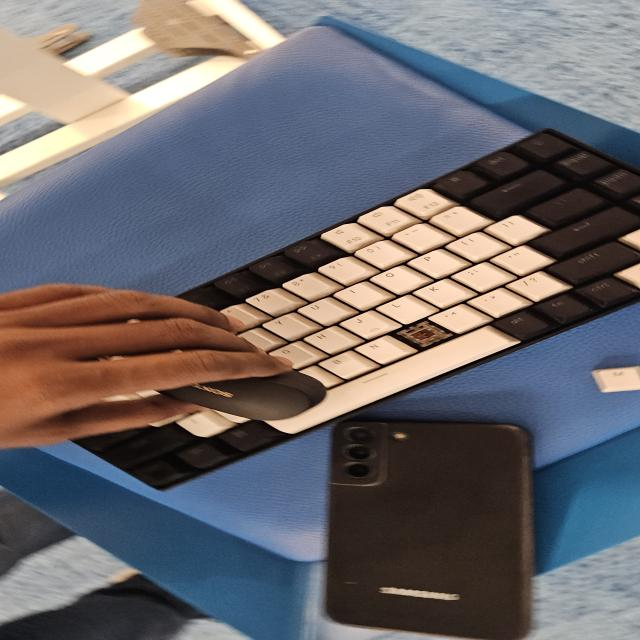C: (403, 327, 447, 346), (405, 326, 441, 344)
